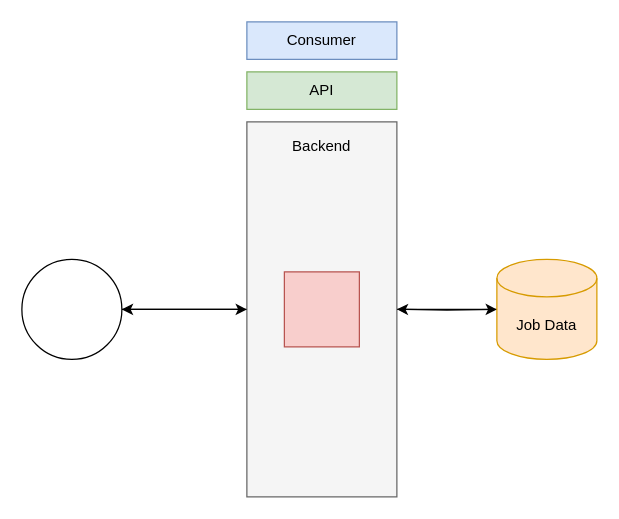
Some shapes in this 619 by 519 pixel diagram are drawn without their labels. The centre of each missing label's shape, as x and y in pixels:
Data: point (321, 309)
WhiteSmith Job Board: point (71, 308)
